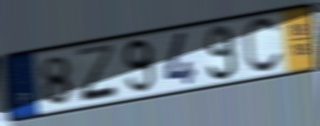4: (163, 30, 201, 88)
8: (38, 54, 77, 107)
9: (204, 23, 240, 83), (121, 38, 157, 96)
C: (241, 15, 285, 76)
Z: (74, 41, 121, 105)
